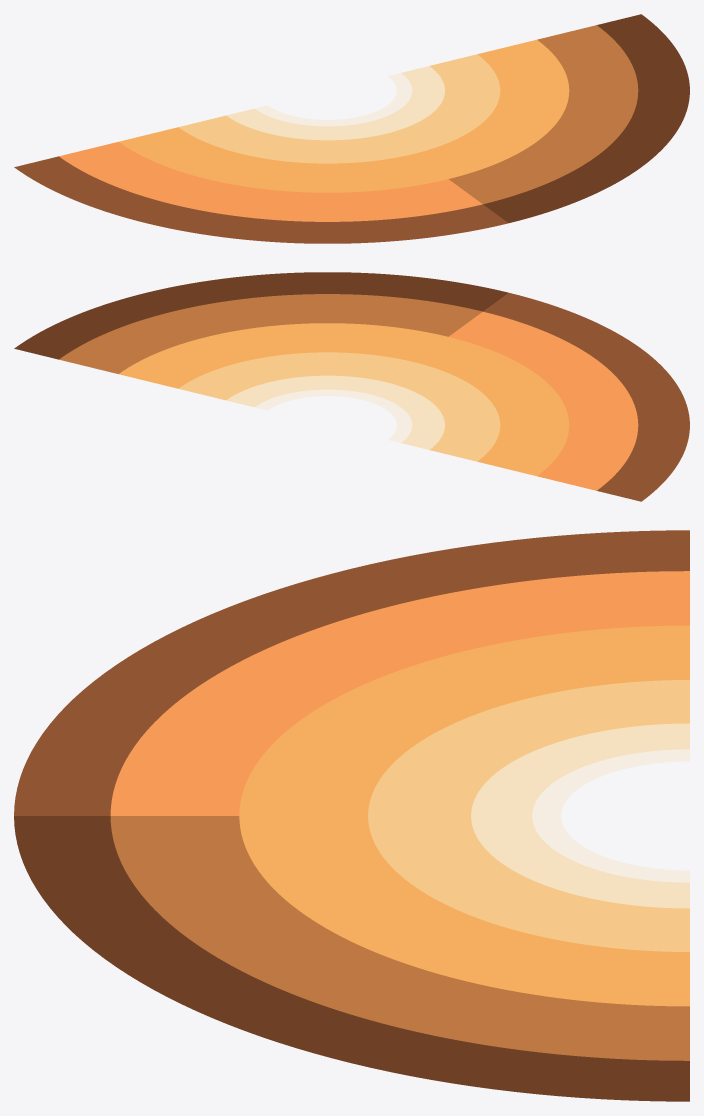
Rendered from gargantua_disk_front.glb.
3 renders of one model, top to bottom at view 1: azimuth 30°, elevation 25°; view 2: azimuth 150°, elevation 25°; view 3: azimuth 270°, elevation 25°, orthographic. The views are drawn at different scales.
Visible parts, largest first — view 1: gargantua_disk_front; view 2: gargantua_disk_front; view 3: gargantua_disk_front.
Part boxes in pixels (box(x1,y1,x2,y2)): gargantua_disk_front: box(14, 14, 689, 243); gargantua_disk_front: box(14, 272, 689, 501); gargantua_disk_front: box(14, 530, 689, 1101).
Size of the model in its own units: 21 by 0 by 10.5.
